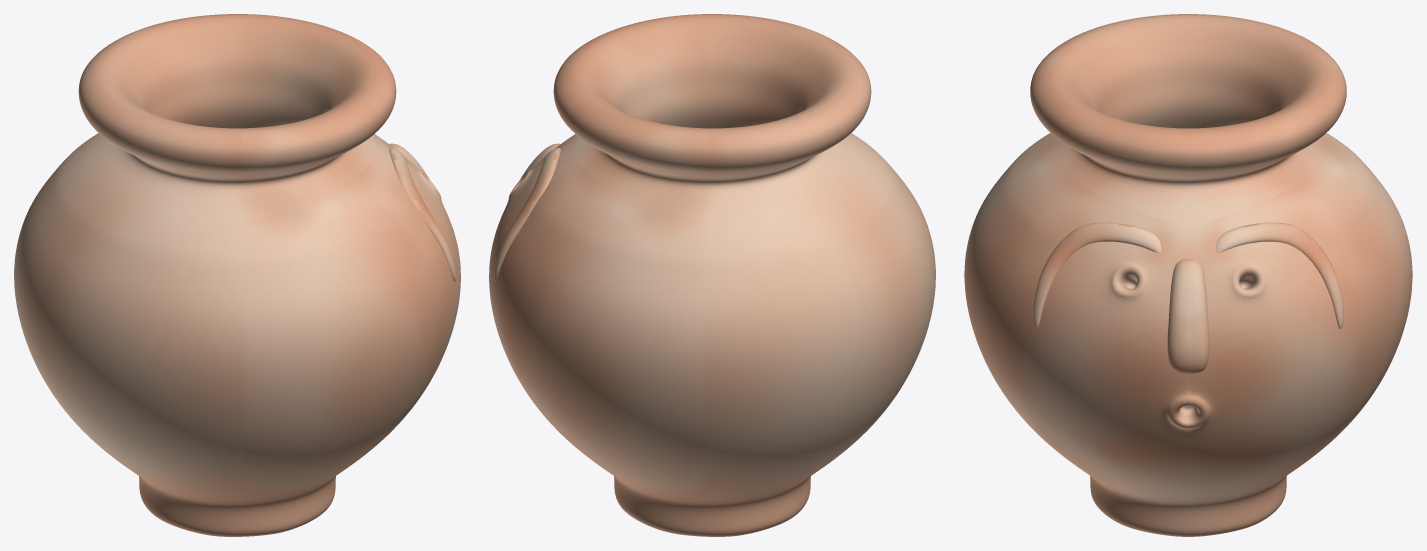
3 views of the same model, side by side, from view 1: azimuth 30°, elevation 25°; view 2: azimuth 150°, elevation 25°; view 3: azimuth 270°, elevation 25° (orthographic).
Visible parts, largest first — view 1: 柱体; view 2: 柱体; view 3: 柱体.
Boxes of the visible parts, x1=… form: 柱体: x1=14, y1=14, x2=460, y2=536; 柱体: x1=489, y1=14, x2=935, y2=536; 柱体: x1=964, y1=14, x2=1412, y2=536.
Bounding box in the file's own units: 1.72 × 1.8 × 1.69.
Materials: 1 (1 with a texture image).
